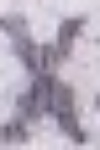X: (0, 0, 99, 149)
